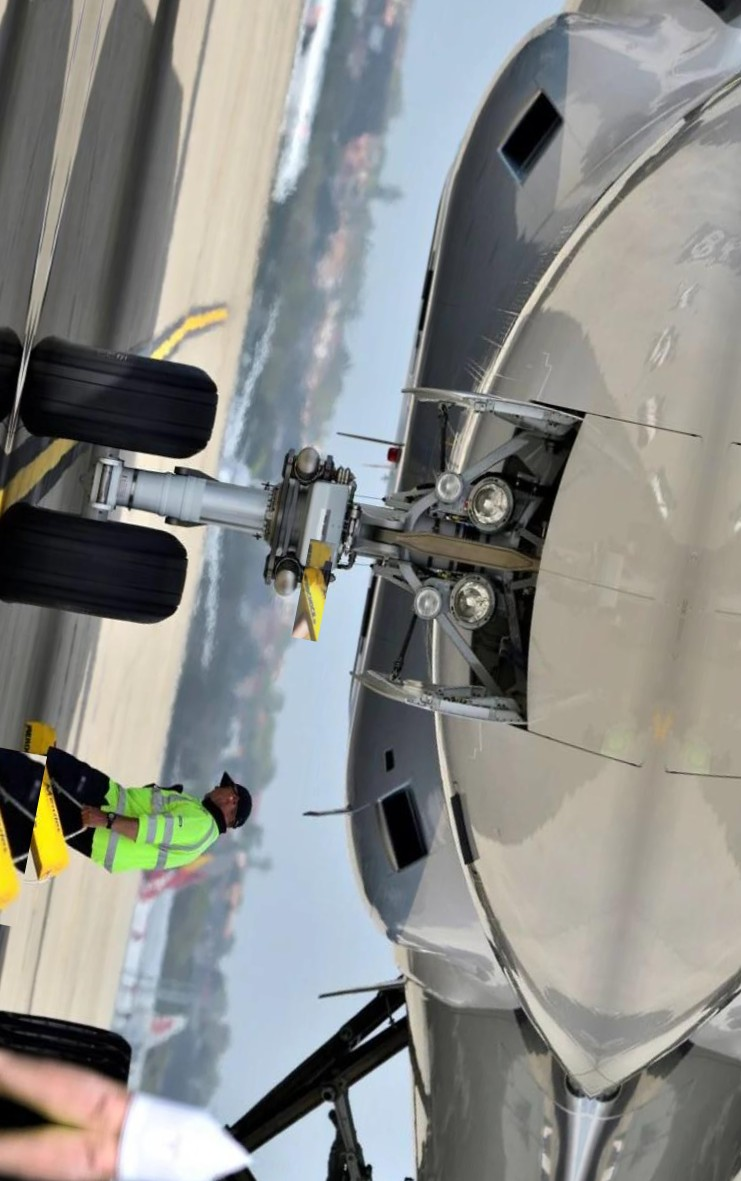chock: (0, 745, 91, 889), (0, 739, 47, 927), (6, 719, 63, 850), (292, 539, 336, 642)
wheel: (17, 330, 226, 465), (0, 497, 195, 634), (0, 1004, 136, 1083)
